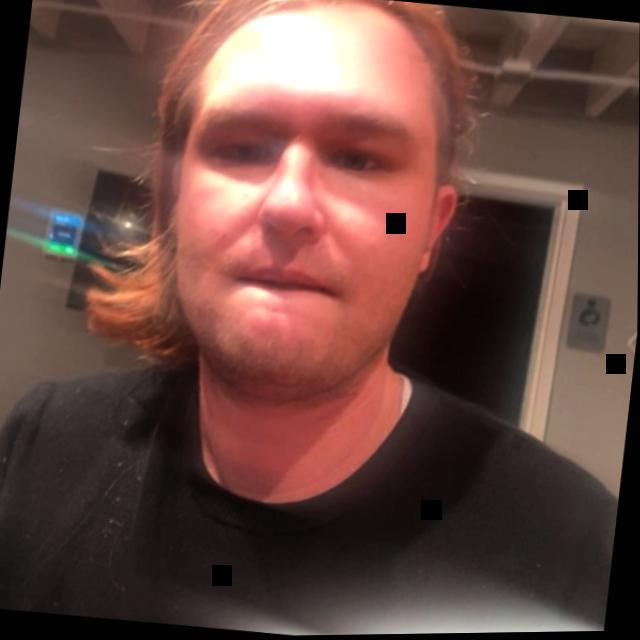NO-Mask: (135, 0, 484, 450)
